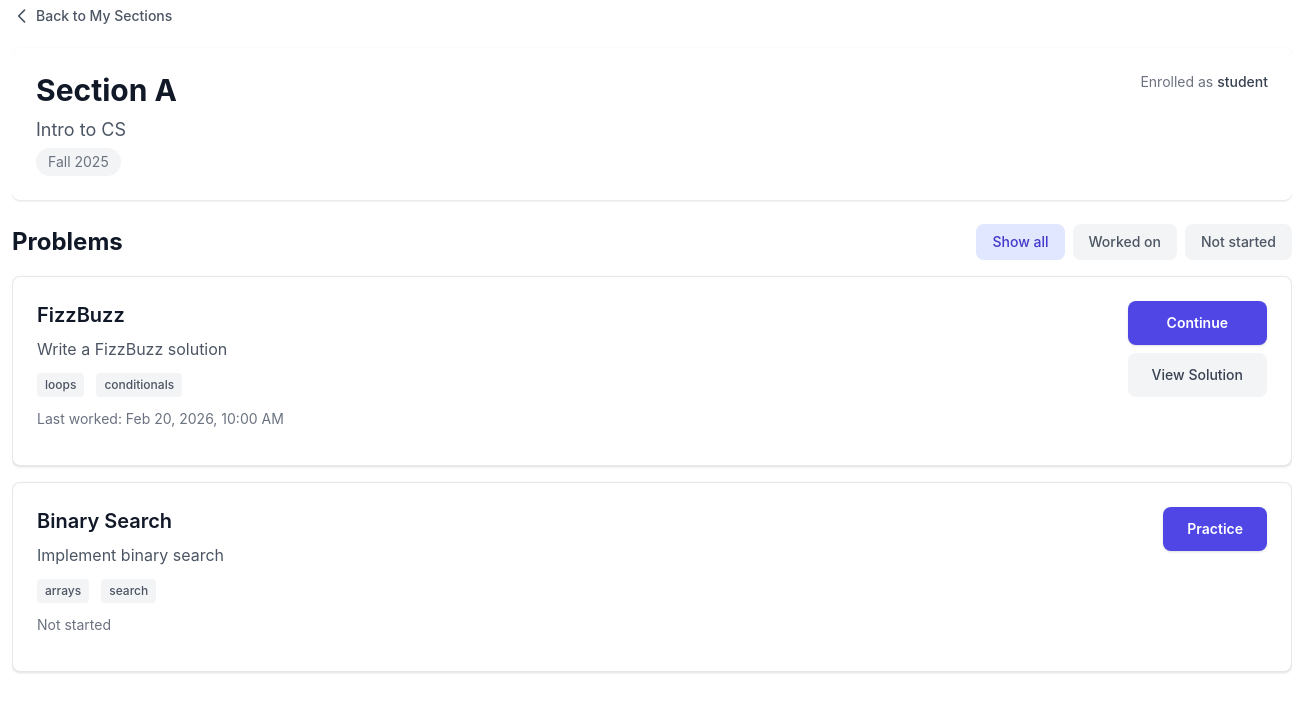
SectionDetailPage › student view: problem-centric list › shows all problems when "Show all" toggle is clicked after filtering
expect the heading "FizzBuzz" is shown: met, box x1=37 y1=301 x2=125 y2=329
Click "Worked on" filter
What coordinates should you click on to do the following:
click the button "Worked on"
I would click on:
 (1125, 242)
Its box is x1=1072 y1=224 x2=1177 y2=260.
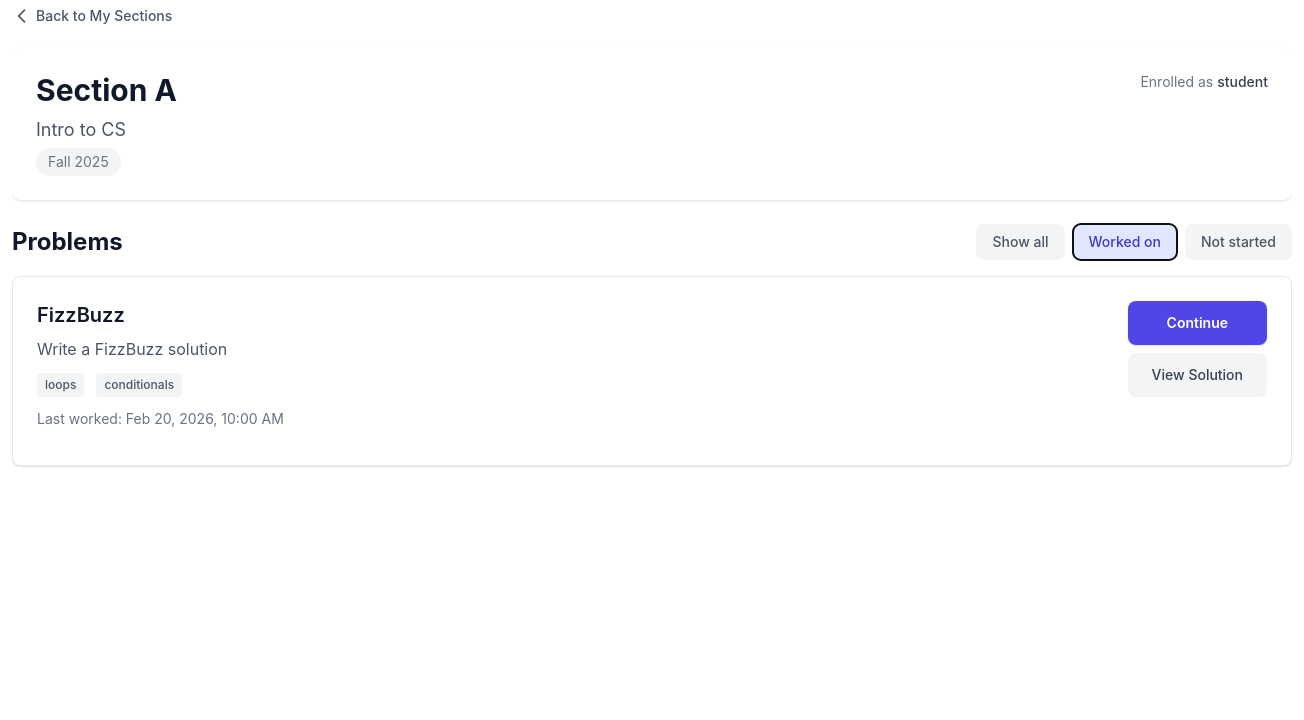
expect the heading "FizzBuzz" is shown: met, box x1=37 y1=301 x2=125 y2=329
expect the heading "Binary Search" is gone: met
Click "Show all"
What coordinates should you click on to do the following:
click the button "Show all"
I would click on:
 (1020, 242)
Its box is x1=976 y1=224 x2=1064 y2=260.
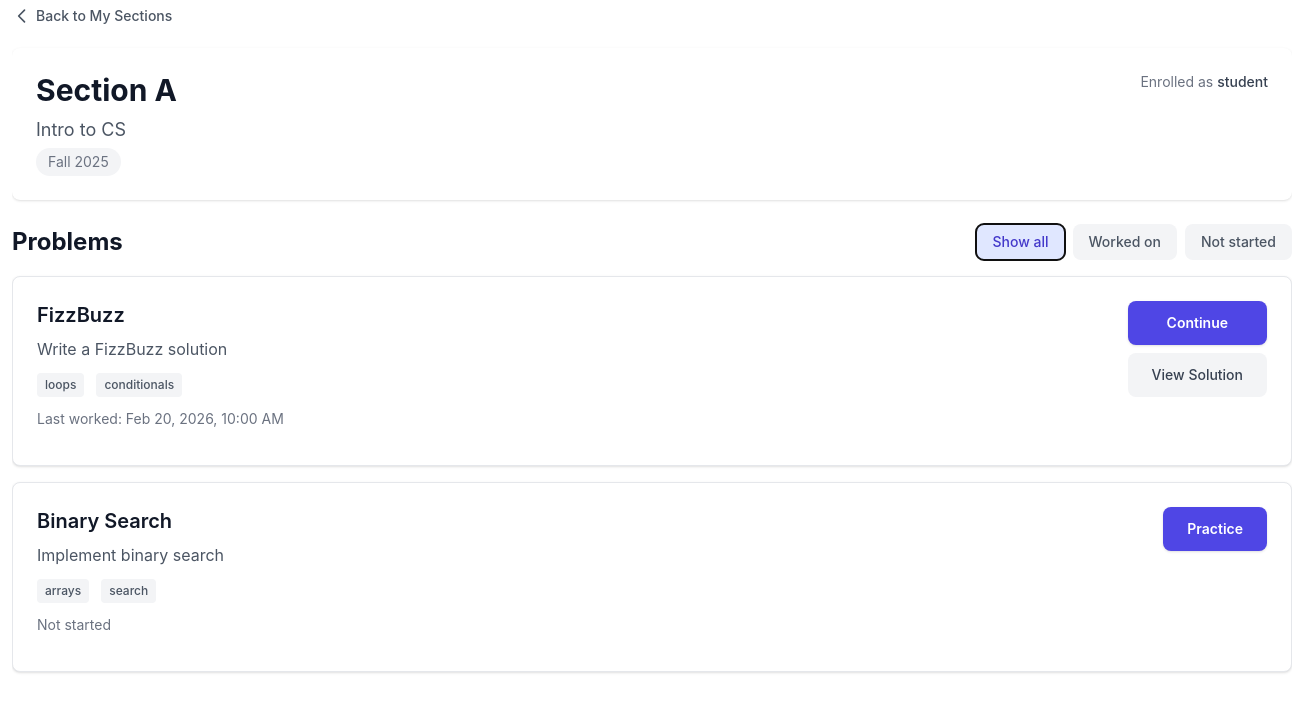
expect the heading "FizzBuzz" is shown: met, box x1=37 y1=301 x2=125 y2=329
expect the heading "Binary Search" is shown: met, box x1=37 y1=507 x2=172 y2=535
